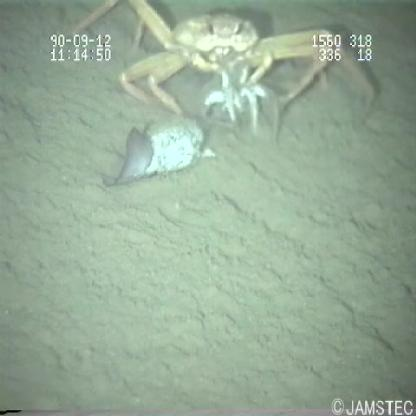Bio: (66, 1, 375, 192)
